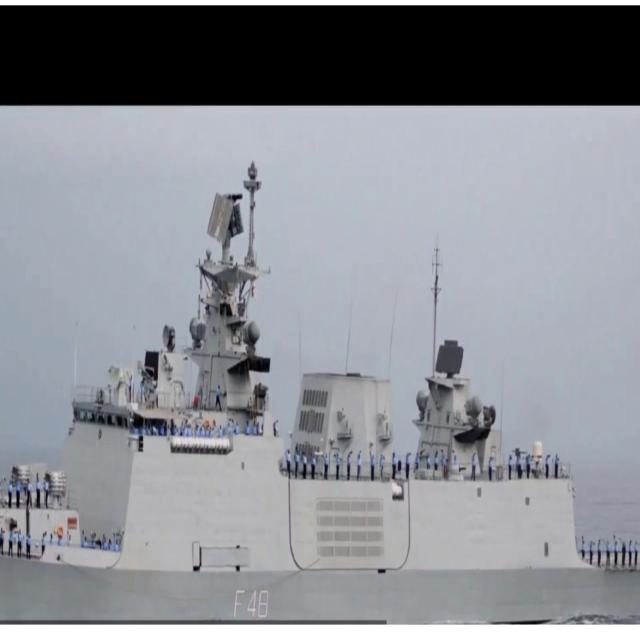OCR: (224, 586, 276, 623)
